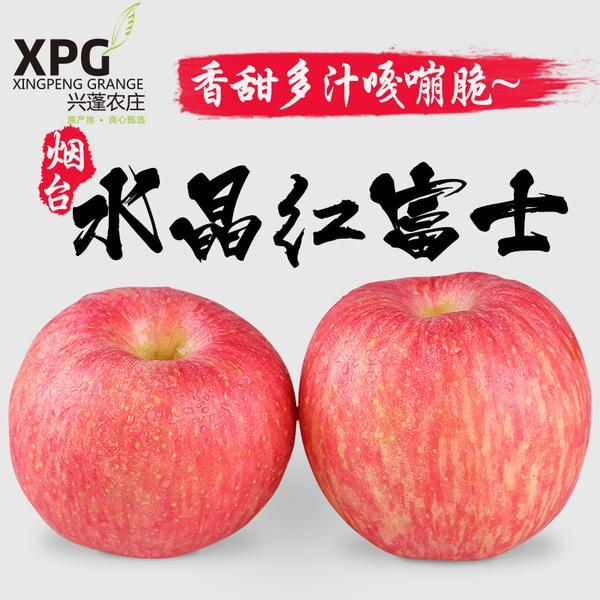apple: (298, 280, 590, 567), (9, 287, 298, 556)
